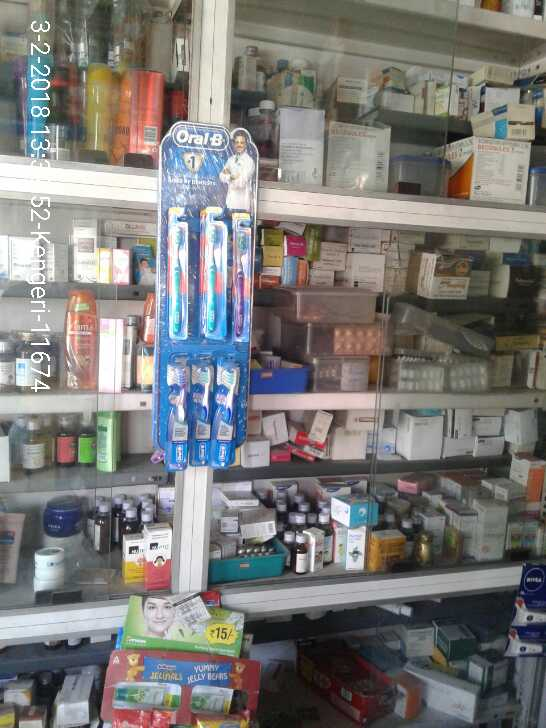oralb: (198, 215, 227, 352), (162, 215, 191, 342), (158, 362, 187, 473), (228, 220, 254, 343), (217, 367, 242, 475), (192, 367, 214, 474)
